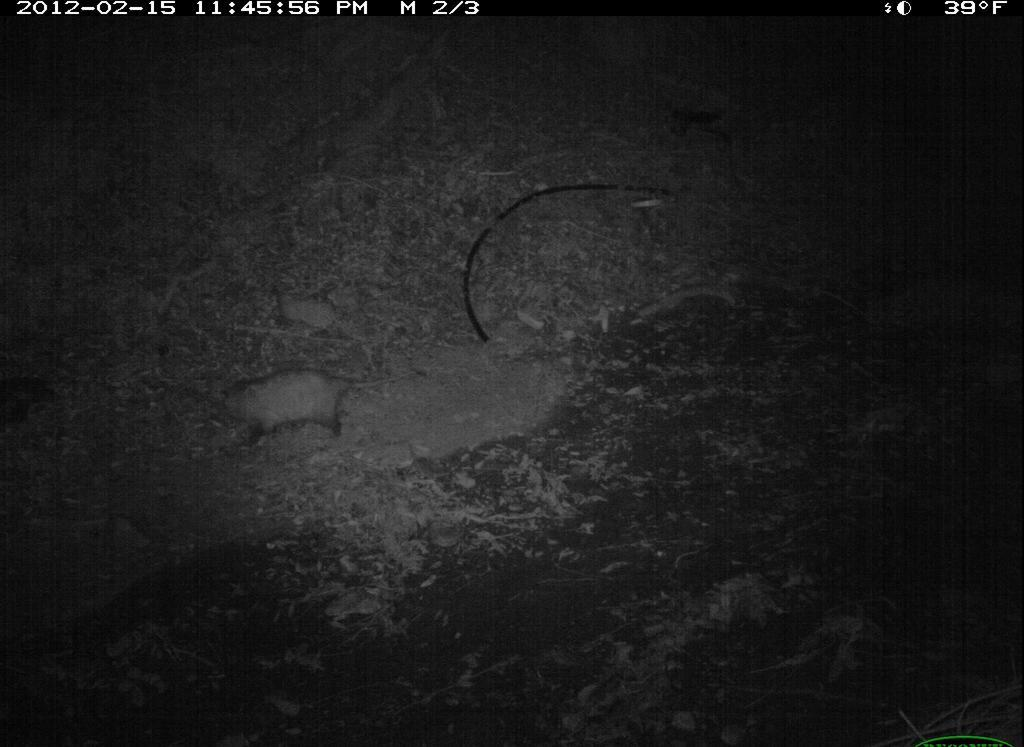opossum: (199, 361, 429, 451)
